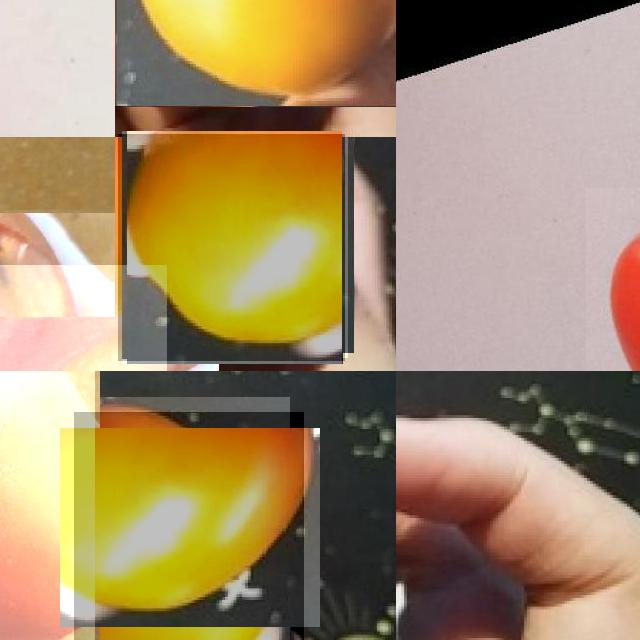Fresh Tomato: (74, 412, 304, 640), (118, 134, 345, 361), (115, 0, 396, 106), (0, 371, 95, 640)
Rotten Tomato: (0, 265, 167, 371)
